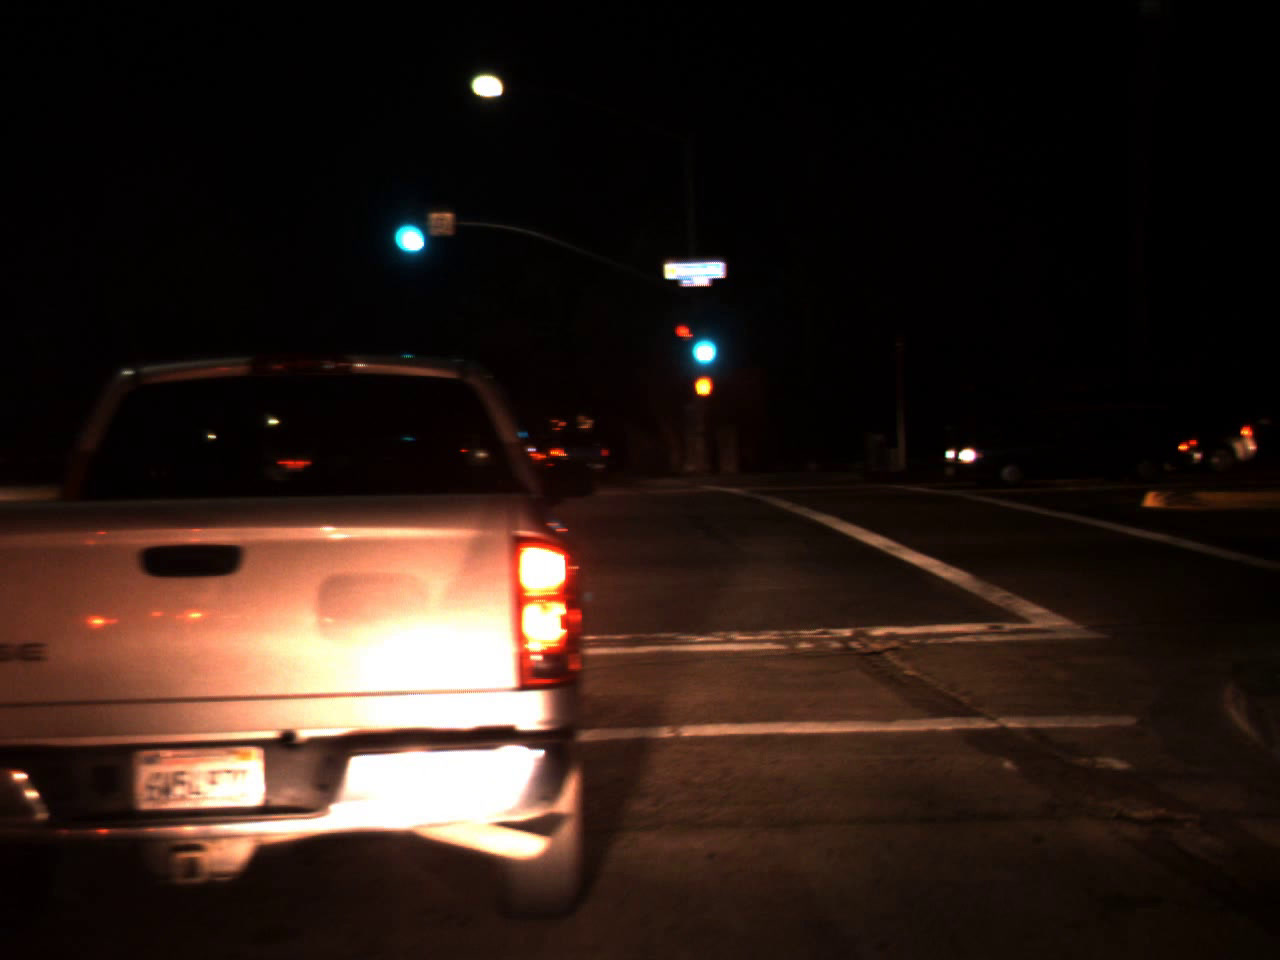go: (382, 188, 432, 263), (681, 308, 722, 374)
